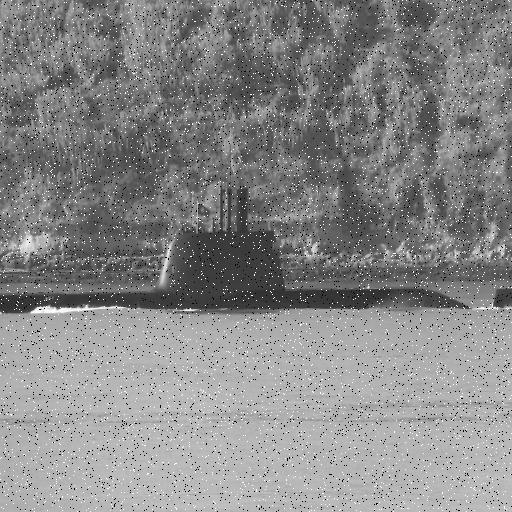submarine: (1, 187, 512, 319)
